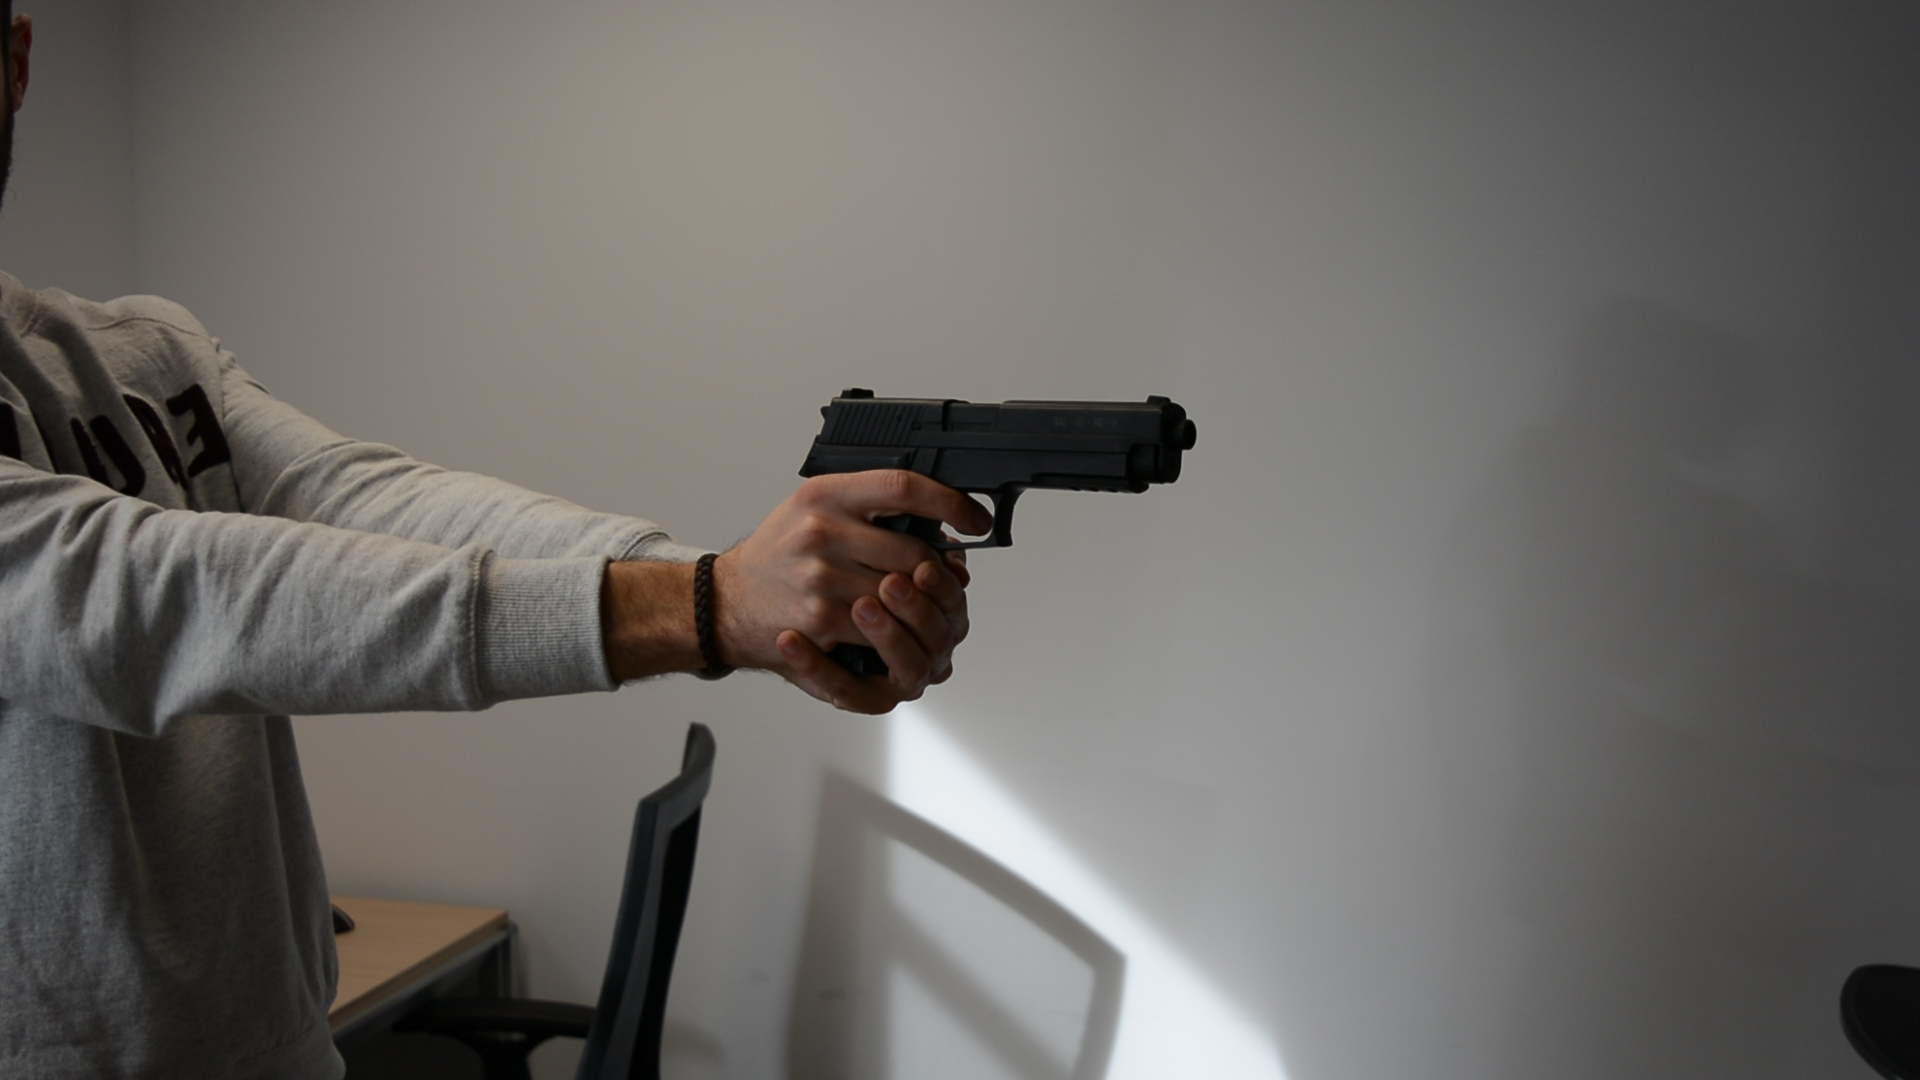pistol: (796, 385, 1199, 680)
